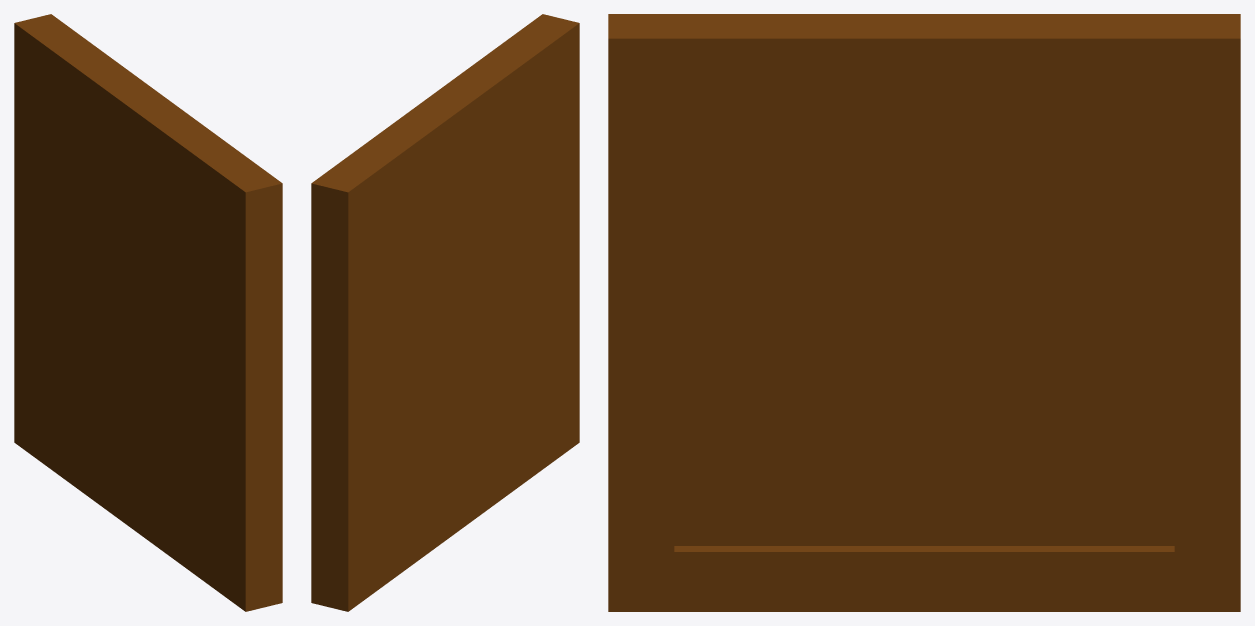
Rendered from Picture Frame 2.fbx.
3 views of the same model, side by side, from view 1: azimuth 30°, elevation 25°; view 2: azimuth 150°, elevation 25°; view 3: azimuth 270°, elevation 25° (orthographic). The views are drawn at different scales.
Parts seen in each view (by area): view 1: Picture Frame 2; view 2: Picture Frame 2; view 3: Picture Frame 2.
Boxes of the visible parts, x1,y1,x2,y2 form: Picture Frame 2: (14,14,282,611); Picture Frame 2: (311,14,579,611); Picture Frame 2: (608,14,1240,611).
Bounding box in the file's own units: 0.1457 × 1.58 × 1.58.
